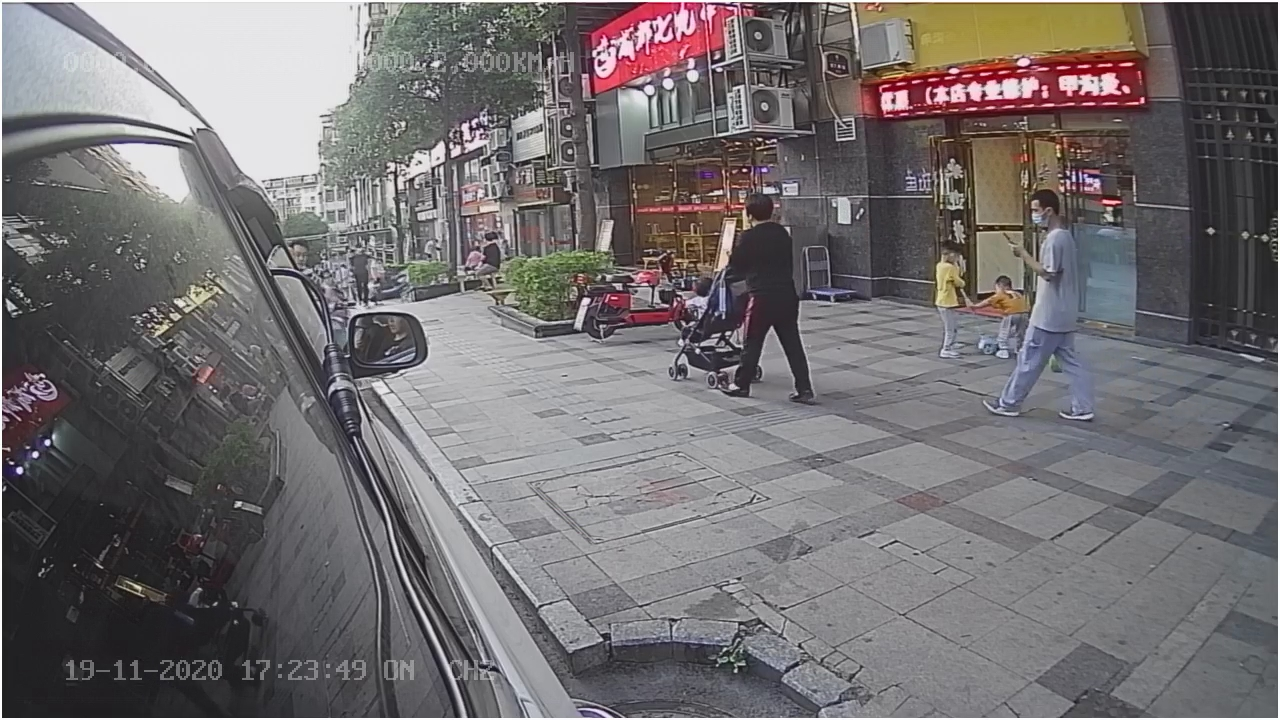person: (717, 191, 820, 405), (1007, 189, 1101, 421), (927, 238, 967, 359)
